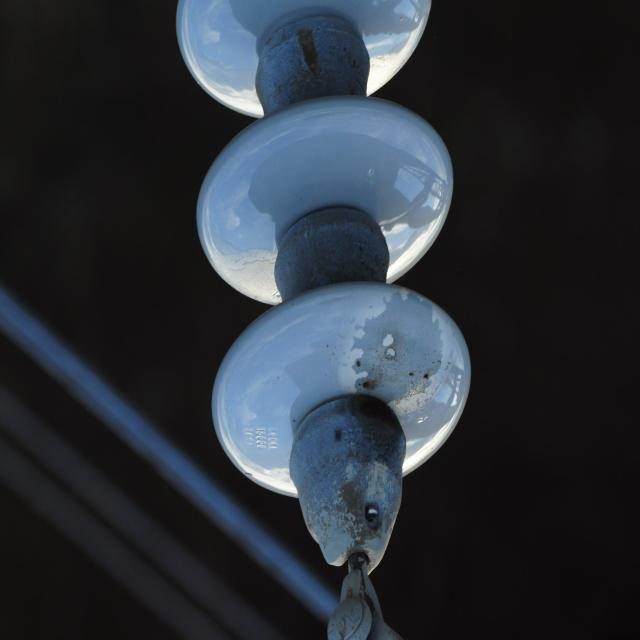insulator: (173, 0, 472, 496)
